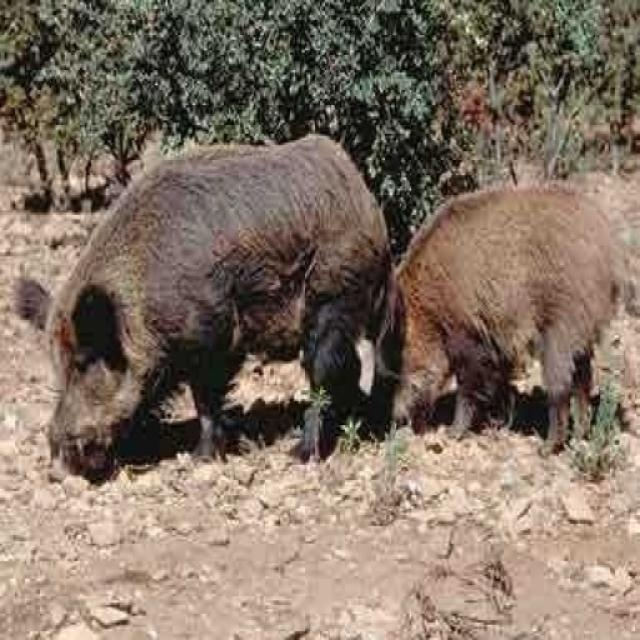pig: (30, 120, 401, 482), (377, 177, 640, 459)
